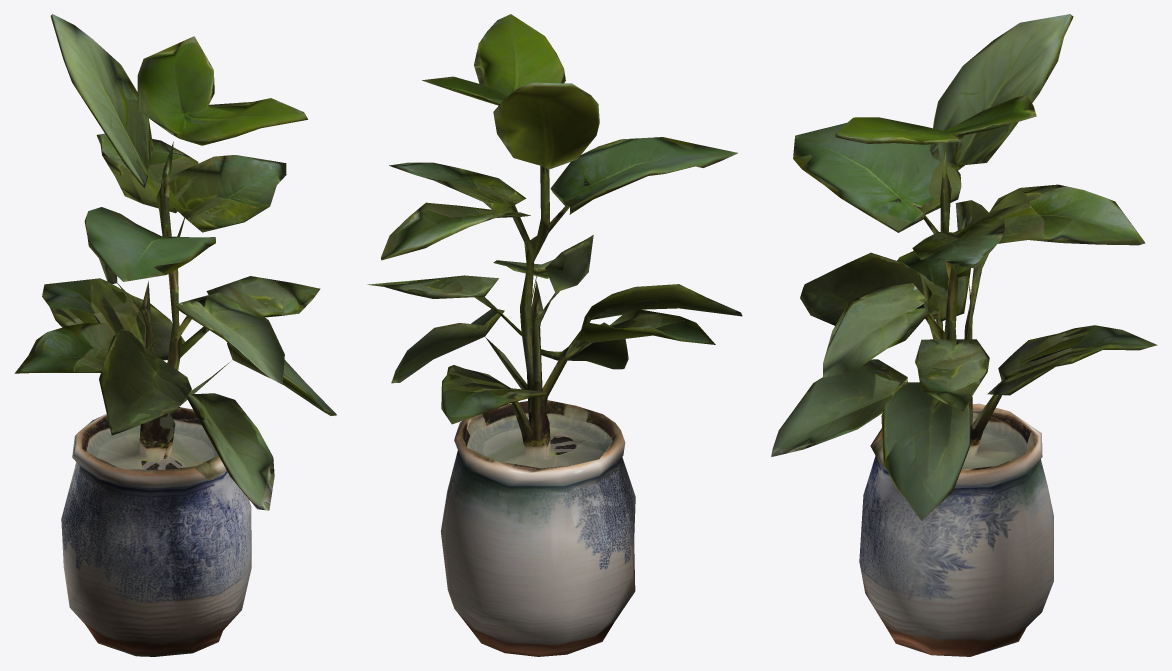
3 views of the same model, side by side, from view 1: azimuth 30°, elevation 25°; view 2: azimuth 150°, elevation 25°; view 3: azimuth 270°, elevation 25° (orthographic). The views are drawn at different scales.
Parts seen in each view (by area): view 1: Mesh1.0; view 2: Mesh1.0; view 3: Mesh1.0.
Boxes of the visible parts, x1=… form: Mesh1.0: x1=14, y1=14, x2=336, y2=656; Mesh1.0: x1=367, y1=14, x2=742, y2=656; Mesh1.0: x1=771, y1=14, x2=1157, y2=656.
Bounding box in the file's own units: 117 × 201 × 119.
1 material, 1 textured.
